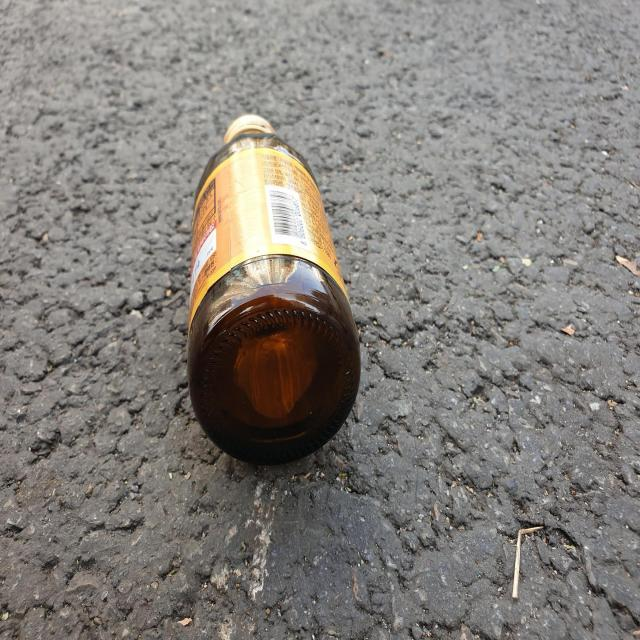glass: (187, 114, 361, 464)
